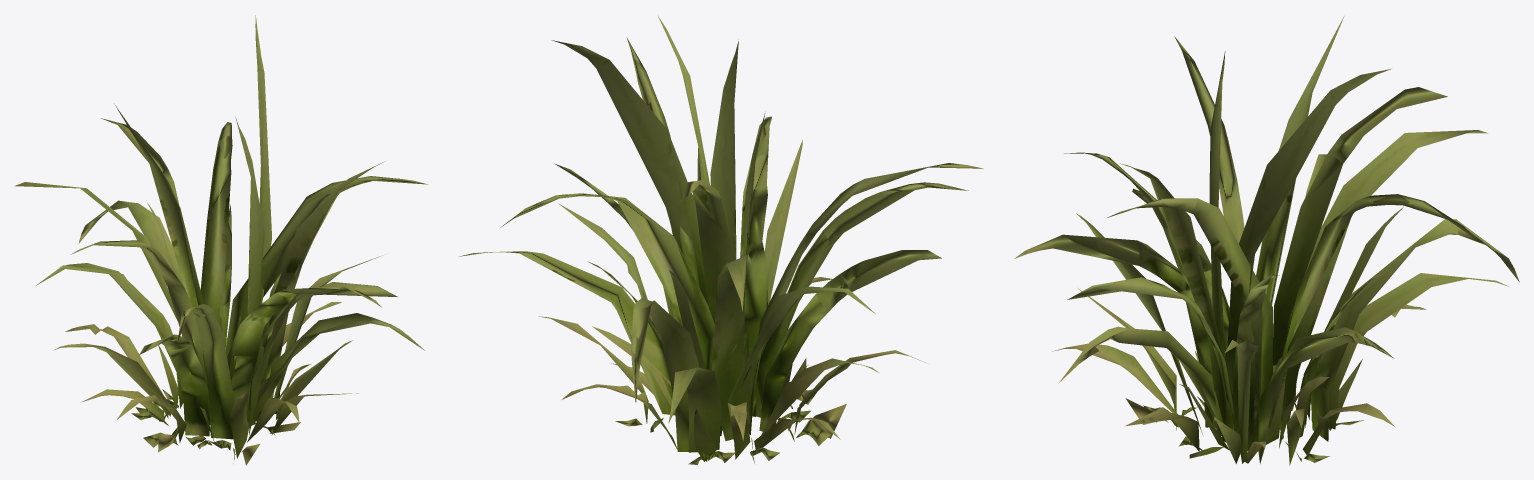
File: tufo_grama_alta.glb
The picture shows the model from 3 angles, left to right: view 1: azimuth 30°, elevation 25°; view 2: azimuth 150°, elevation 25°; view 3: azimuth 270°, elevation 25°; orthographic projection. The views are drawn at different scales.
Visible parts, largest first — view 1: tripo_node_26490add-0f79-4647-80d0-a8c7ef54b8c2; view 2: tripo_node_26490add-0f79-4647-80d0-a8c7ef54b8c2; view 3: tripo_node_26490add-0f79-4647-80d0-a8c7ef54b8c2.
Part boxes in pixels (x1,y1,x2,y2): tripo_node_26490add-0f79-4647-80d0-a8c7ef54b8c2: (14,15,427,465); tripo_node_26490add-0f79-4647-80d0-a8c7ef54b8c2: (459,16,983,464); tripo_node_26490add-0f79-4647-80d0-a8c7ef54b8c2: (1014,16,1519,465).
Size of the model in its own units: 0.9766 by 0.9375 by 0.998.
1 material, 1 textured.
